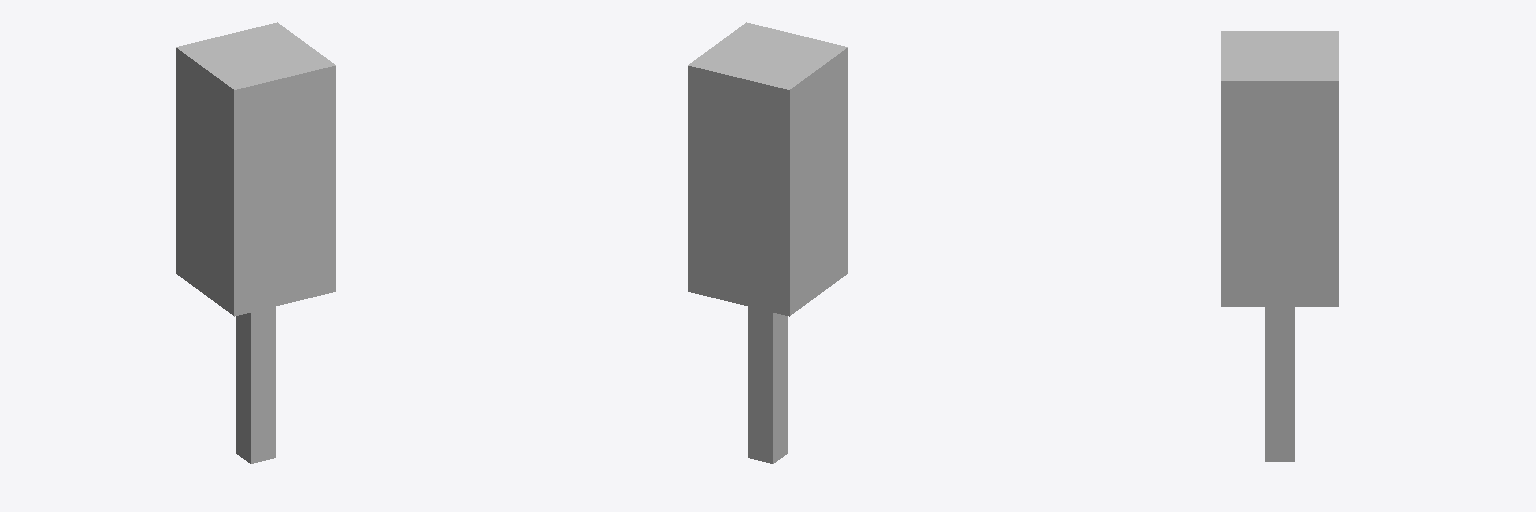
The model's file is Tree.obj.
The picture shows the model from 3 angles: view 1: azimuth 30°, elevation 25°; view 2: azimuth 150°, elevation 25°; view 3: azimuth 270°, elevation 25°; orthographic projection.
Size of the model in its own units: 8 by 30 by 8.